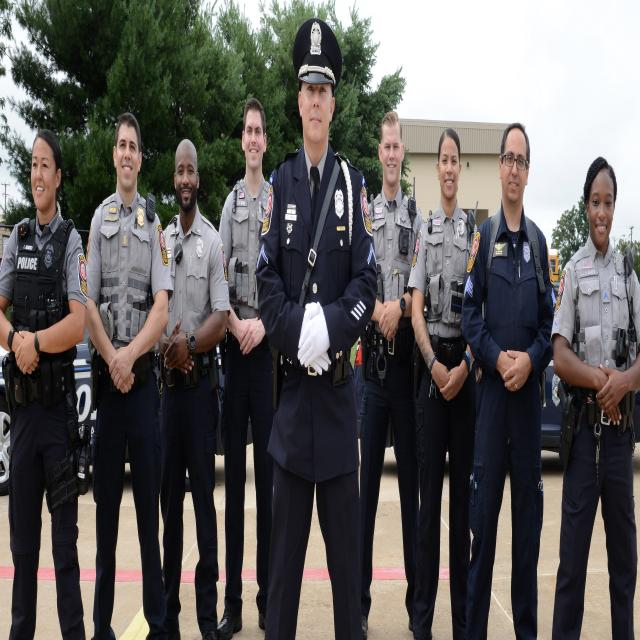police: (263, 11, 373, 636), (474, 103, 557, 640), (2, 134, 87, 640), (89, 118, 165, 640), (559, 151, 640, 640), (156, 112, 226, 640), (362, 100, 429, 640), (421, 115, 483, 640), (221, 90, 273, 640)
